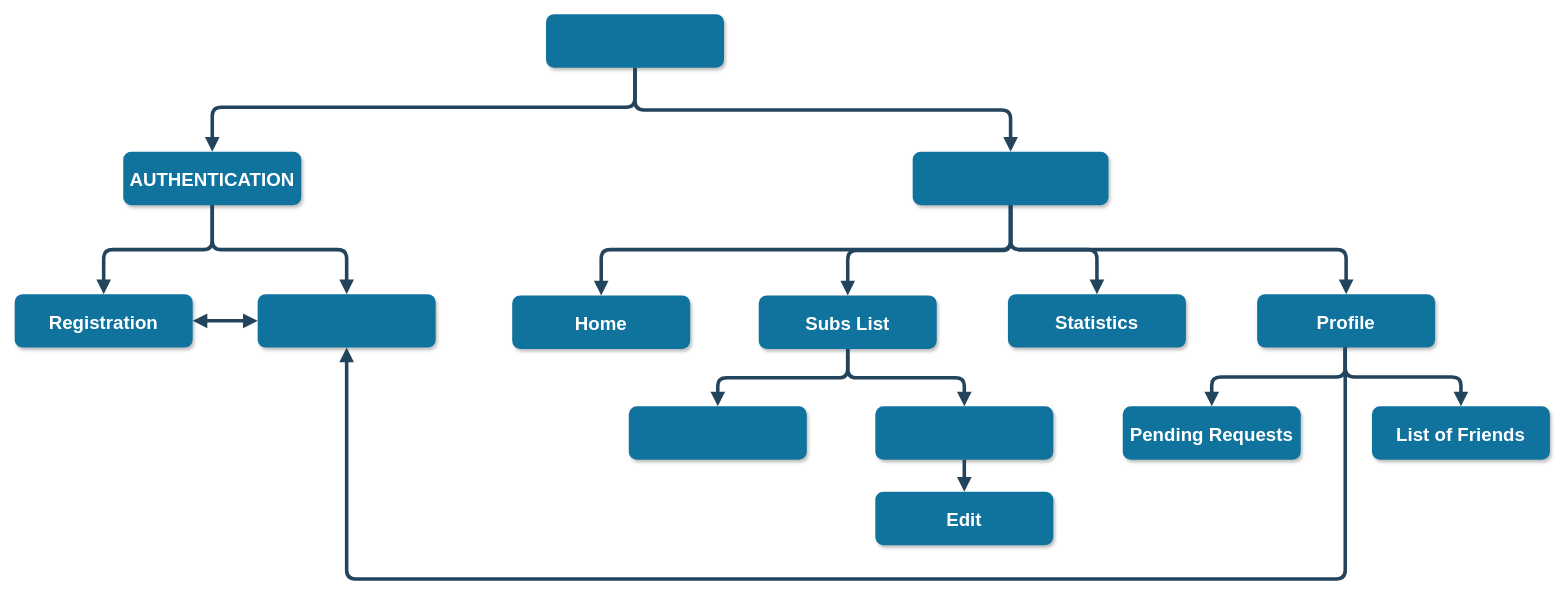
Some shapes in this 1565 by 594 pixel diagram are drawn without their labels. The shapes that lost their labels are listed below. From the top down, each one's centre as x and y in pixels, then its label:
[635,41]: ROOT
[1011,179]: MAIN APPLICATION
[347,321]: Login
[718,433]: Add New
[964,433]: Detail Screen
